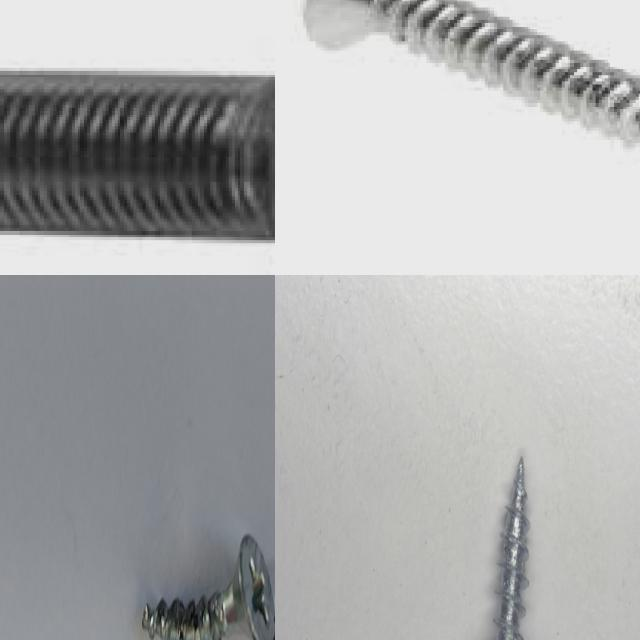Screw: (303, 0, 640, 149), (0, 75, 275, 246), (141, 535, 275, 640), (495, 456, 530, 640)
